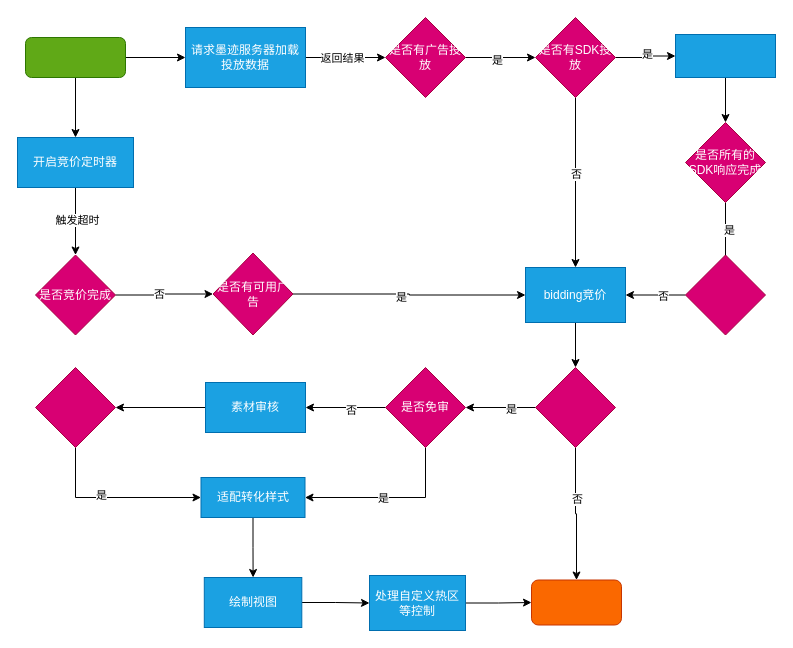
The diagram is 793 pixels wide and 648 high, and some of its shapes have lost their labels. The centre of each missing label's shape, as x and y in pixels:
Loader加载SDK广告素材: the point at 725,56
开始: the point at 75,57
是否已经开始了竞价: the point at 725,294
是否有最优广告: the point at 575,407
素材是否审核成功: the point at 75,407
结束: the point at 576,602
